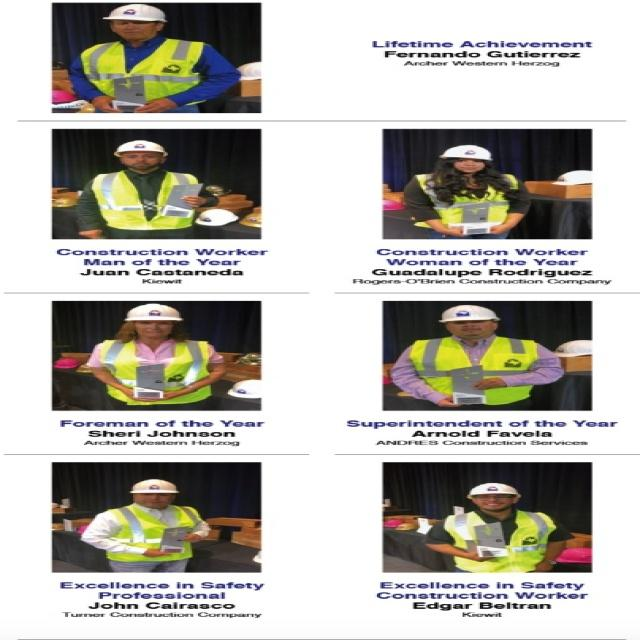helmet: (435, 407, 511, 453), (102, 4, 172, 52), (124, 404, 189, 452), (112, 185, 174, 228), (437, 192, 495, 231), (130, 637, 183, 640)
vest: (72, 43, 222, 149), (403, 446, 549, 546), (91, 221, 203, 328), (93, 448, 216, 544), (403, 224, 529, 315)
